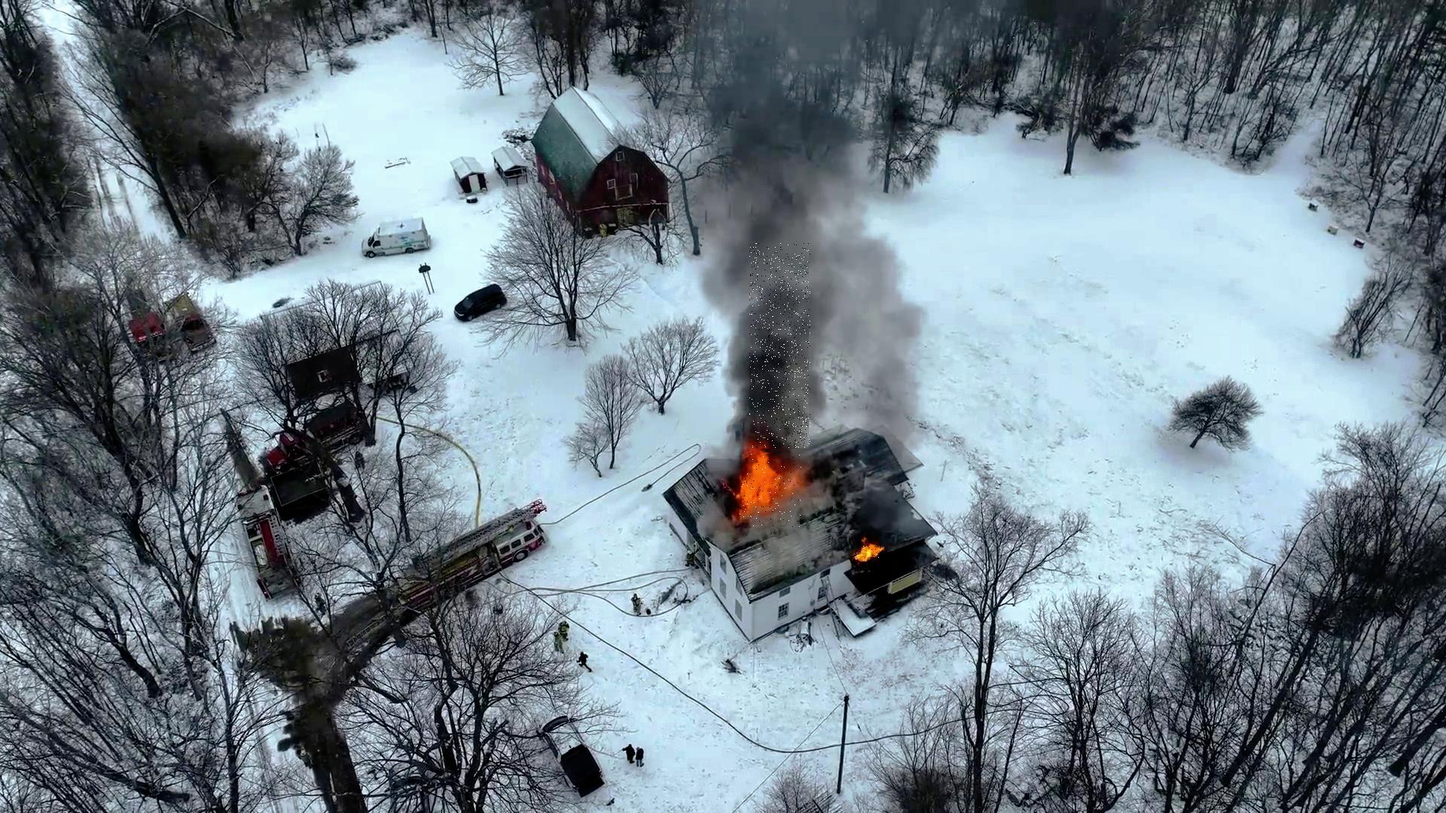fire: (742, 454, 802, 529), (859, 544, 885, 562)
smoke: (750, 243, 811, 449)
